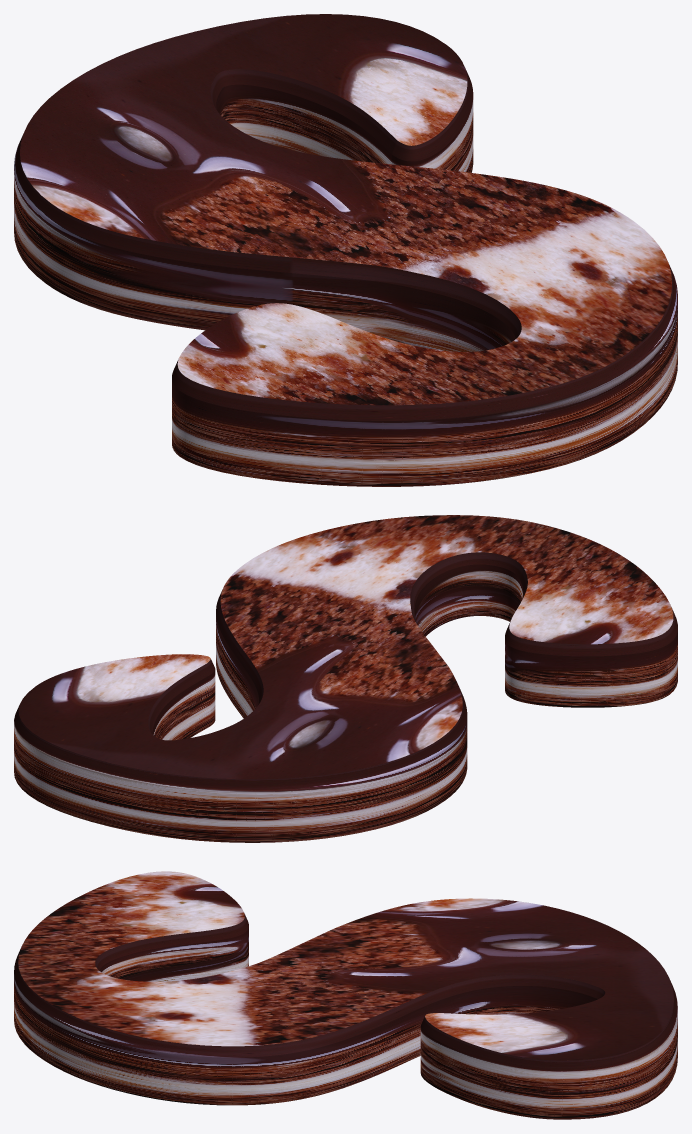
Rendered from myS.FBX.
The picture shows the model from 3 angles, top to bottom: view 1: azimuth 30°, elevation 25°; view 2: azimuth 150°, elevation 25°; view 3: azimuth 270°, elevation 25°; orthographic projection. The views are drawn at different scales.
Parts seen in each view (by area): view 1: myB; view 2: myB; view 3: myB.
Boxes of the visible parts, left/top/right/bottom form: myB: left=14, top=14, right=677, bottom=486; myB: left=14, top=515, right=677, bottom=842; myB: left=14, top=871, right=677, bottom=1119.
Size of the model in its own units: 43.3 by 6 by 63.
1 material, 1 textured.
